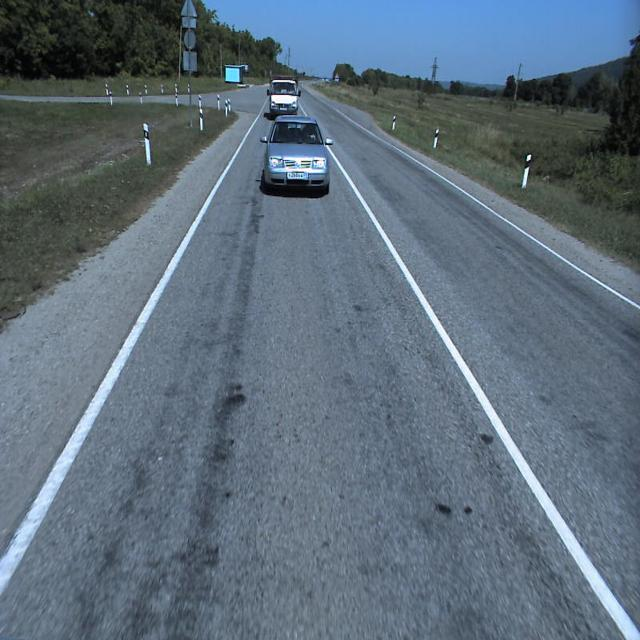road: (0, 81, 640, 639), (0, 96, 110, 102), (143, 96, 175, 104), (112, 97, 139, 102), (178, 96, 189, 104), (192, 95, 198, 106)
